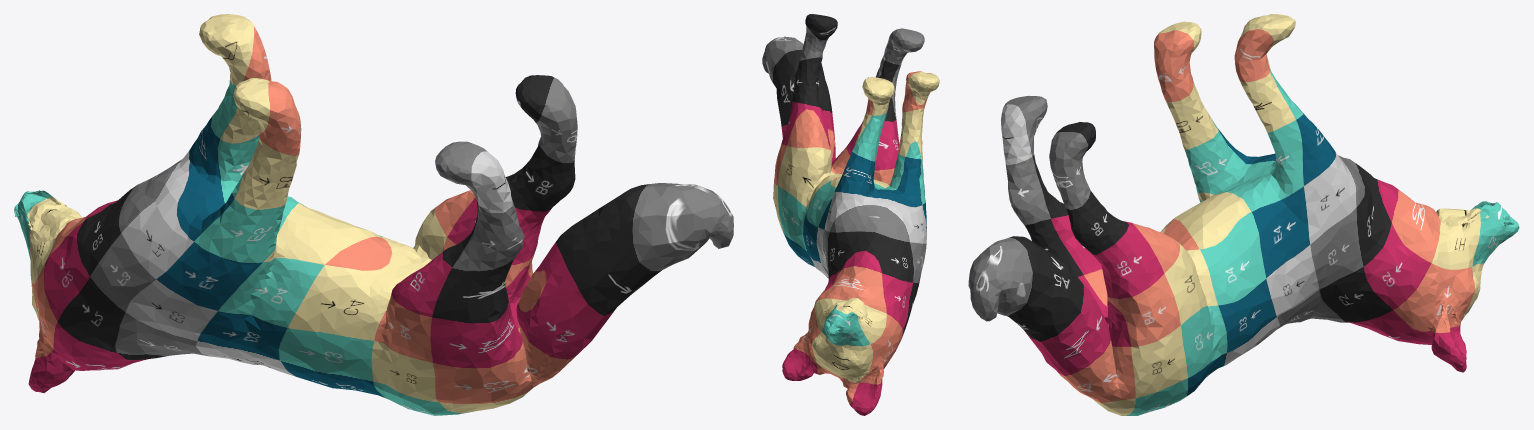
The model's file is wolf_03-fox_01.obj.
3 renders of one model, left to right at view 1: azimuth 30°, elevation 25°; view 2: azimuth 150°, elevation 25°; view 3: azimuth 270°, elevation 25°, orthographic. The views are drawn at different scales.
Parts seen in each view (by area): view 1: wolf_03-fox_01_export; view 2: wolf_03-fox_01_export; view 3: wolf_03-fox_01_export.
Part boxes in pixels (x1,y1,x2,y2): wolf_03-fox_01_export: [14, 14, 733, 415]; wolf_03-fox_01_export: [762, 14, 939, 415]; wolf_03-fox_01_export: [968, 14, 1519, 415].
Size of the model in its own units: 0.6995 by 0.6346 by 0.8544.
